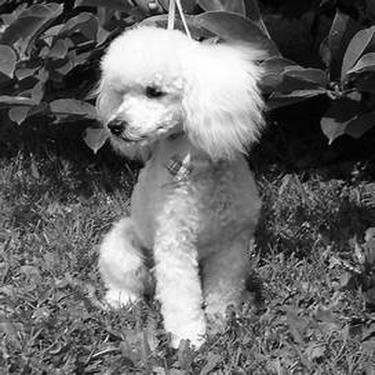dog: (73, 22, 274, 359)
